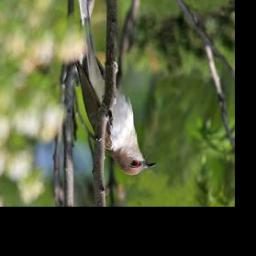Cuckoo: (74, 0, 159, 178)
